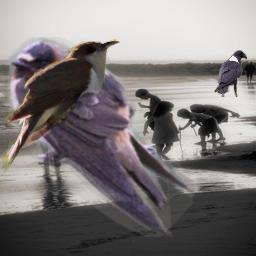Crow: (214, 50, 247, 97)
Cuckoo: (2, 38, 120, 179)
Swallow: (5, 37, 195, 237)
